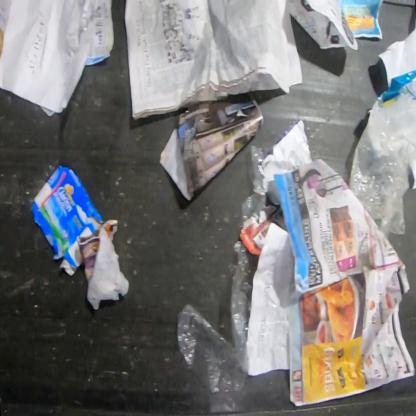cardboard: (32, 166, 104, 277)
soft_plastic: (176, 239, 258, 413), (349, 90, 415, 240), (376, 70, 416, 105), (250, 146, 268, 196)
